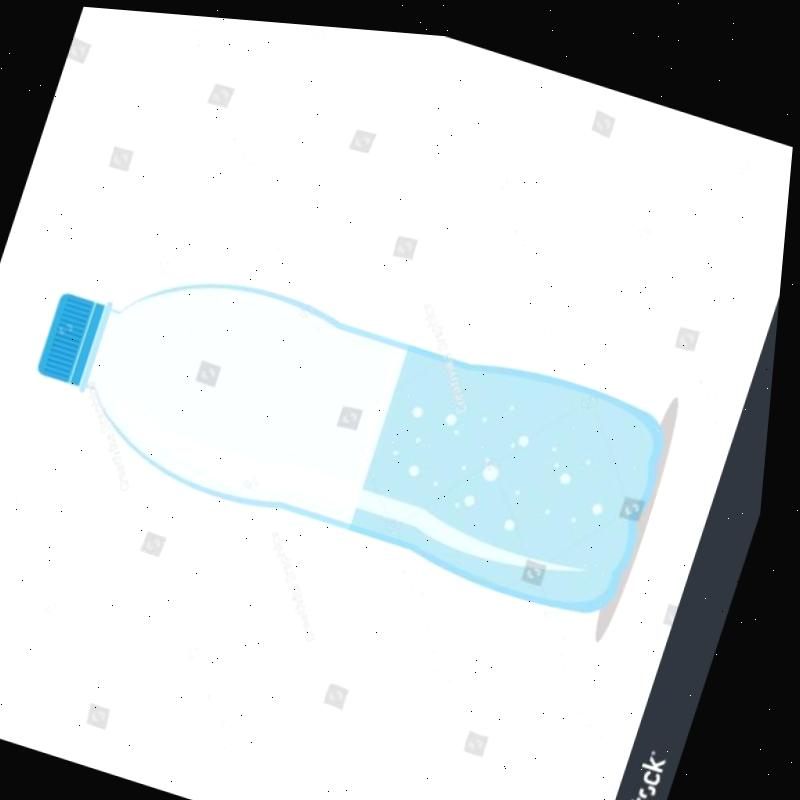botella: (12, 218, 700, 622)
